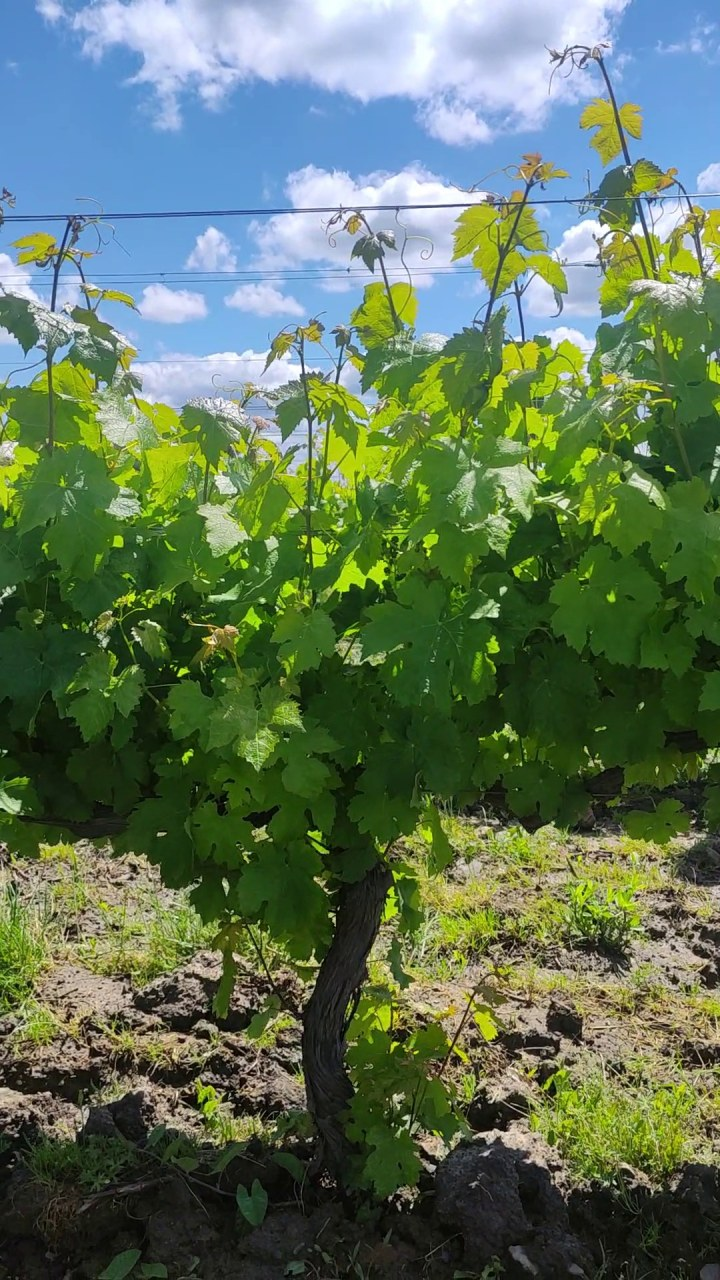vine_trunk: (302, 856, 391, 1177)
